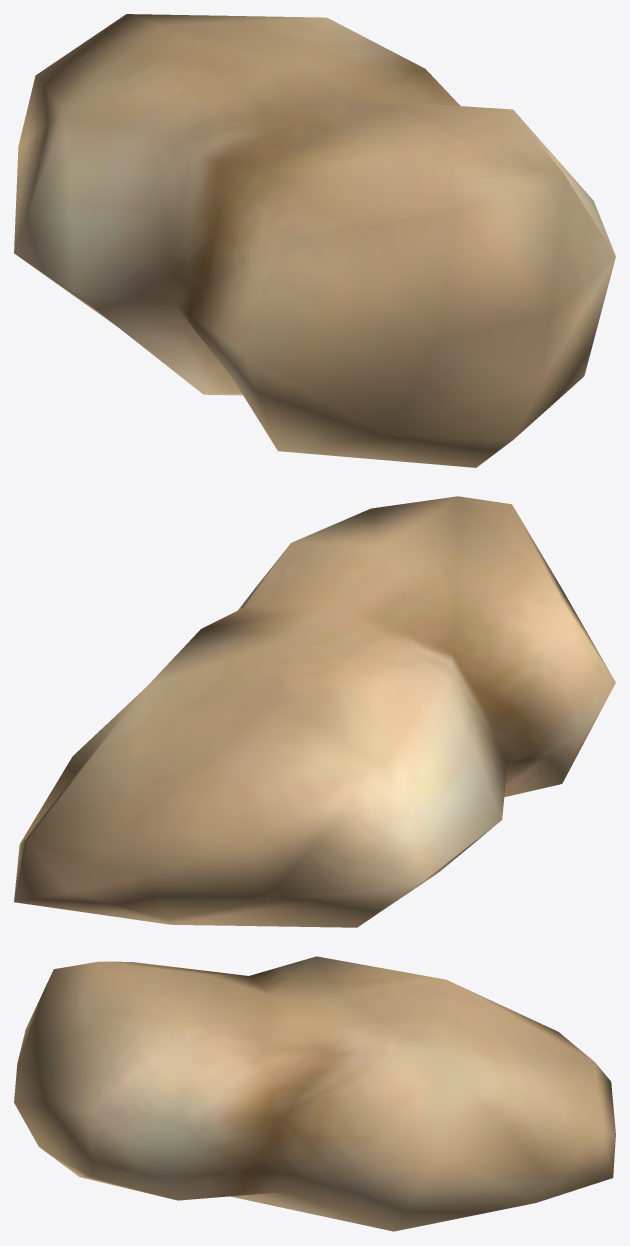
File: Robot01.LeftShoulder1.fbx
The picture shows the model from 3 angles, top to bottom: view 1: azimuth 30°, elevation 25°; view 2: azimuth 150°, elevation 25°; view 3: azimuth 270°, elevation 25°; orthographic projection. The views are drawn at different scales.
Parts seen in each view (by area): view 1: mesh_1115; view 2: mesh_1115; view 3: mesh_1115.
Part boxes in pixels (x1,y1,x2,y2): mesh_1115: (14,14,615,467); mesh_1115: (14,496,615,927); mesh_1115: (14,956,615,1231).
Size of the model in its own units: 30.86 by 24.25 by 55.41.
